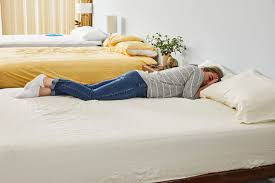bed-matress: (1, 85, 273, 183), (1, 45, 157, 88), (1, 28, 113, 49)
